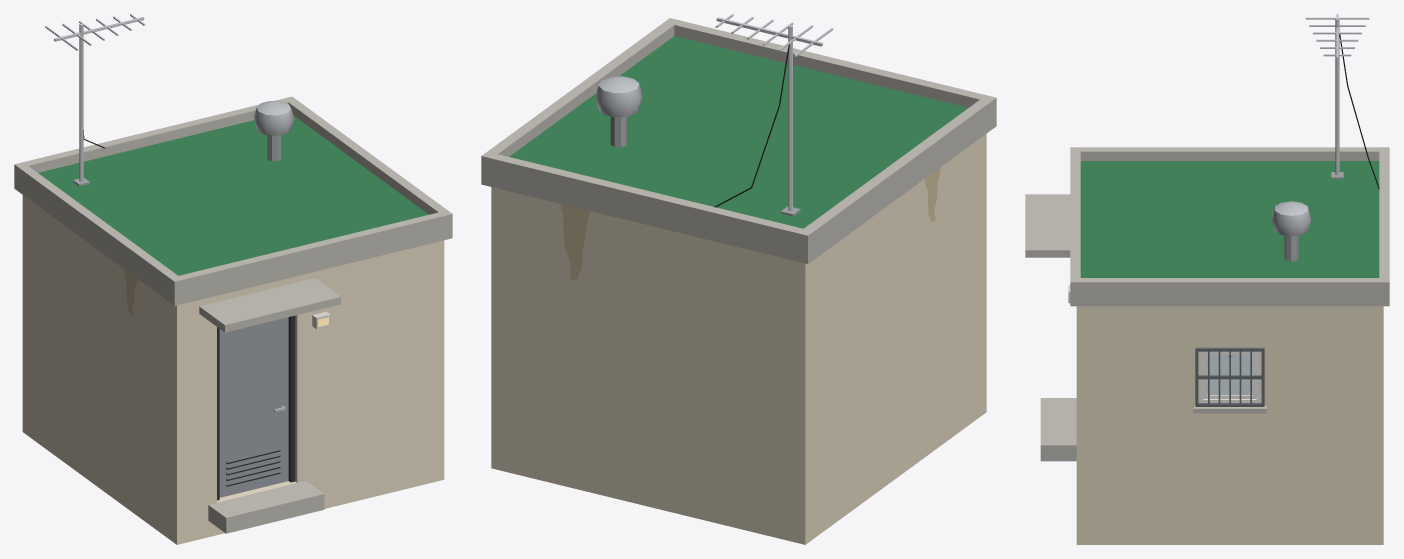
File: SC_Bld_Villa_Roof_Door_Hut.gltf
3 views of the same model, side by side, from view 1: azimuth 30°, elevation 25°; view 2: azimuth 150°, elevation 25°; view 3: azimuth 270°, elevation 25° (orthographic). The views are drawn at different scales.
Parts seen in each view (by area): view 1: SC_Bld_Villa_Roof_Door_Hut; view 2: SC_Bld_Villa_Roof_Door_Hut; view 3: SC_Bld_Villa_Roof_Door_Hut.
Part boxes in pixels (left/top/right/bottom): SC_Bld_Villa_Roof_Door_Hut: left=14, top=14, right=452, bottom=544; SC_Bld_Villa_Roof_Door_Hut: left=481, top=14, right=996, bottom=544; SC_Bld_Villa_Roof_Door_Hut: left=1025, top=14, right=1389, bottom=544.
Bounding box in the file's own units: 3.12 × 4.46 × 3.56.
Materials: 2 (2 with a texture image).
